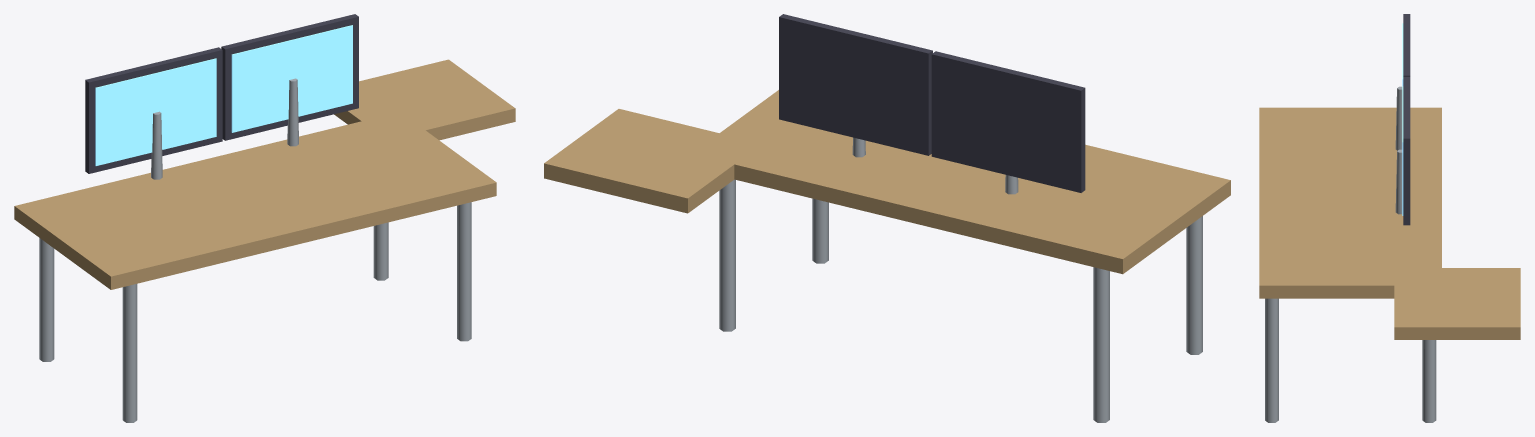
The model's file is desk.glb.
3 renders of one model, left to right at view 1: azimuth 30°, elevation 25°; view 2: azimuth 150°, elevation 25°; view 3: azimuth 270°, elevation 25°, orthographic. The views are drawn at different scales.
Visible parts, largest first — view 1: Top, Screen (×2), Side, Bezel (×2), Legs, Stand (×2); view 2: Top, Bezel (×2), Side, Legs; view 3: Top, Side, Legs, Bezel (×2), Stand (×2), Screen.
Part boxes in pixels (x1=…): Top: x1=14, y1=112, x2=496, y2=289; Screen (×2): x1=95, y1=25, x2=352, y2=165; Side: x1=334, y1=59, x2=515, y2=140; Bezel (×2): x1=85, y1=14, x2=358, y2=173; Legs: x1=39, y1=202, x2=471, y2=422; Stand (×2): x1=151, y1=78, x2=298, y2=179; Top: x1=691, y1=90, x2=1230, y2=274; Bezel (×2): x1=779, y1=14, x2=1085, y2=192; Side: x1=544, y1=109, x2=752, y2=213; Legs: x1=719, y1=179, x2=1202, y2=422; Top: x1=1259, y1=107, x2=1441, y2=298; Side: x1=1394, y1=268, x2=1520, y2=339; Legs: x1=1265, y1=298, x2=1436, y2=422; Bezel (×2): x1=1403, y1=14, x2=1410, y2=225; Stand (×2): x1=1395, y1=86, x2=1402, y2=214; Screen: x1=1402, y1=86, x2=1403, y2=215.
Bounding box in the file's own units: 1.85 × 1.04 × 0.93.
